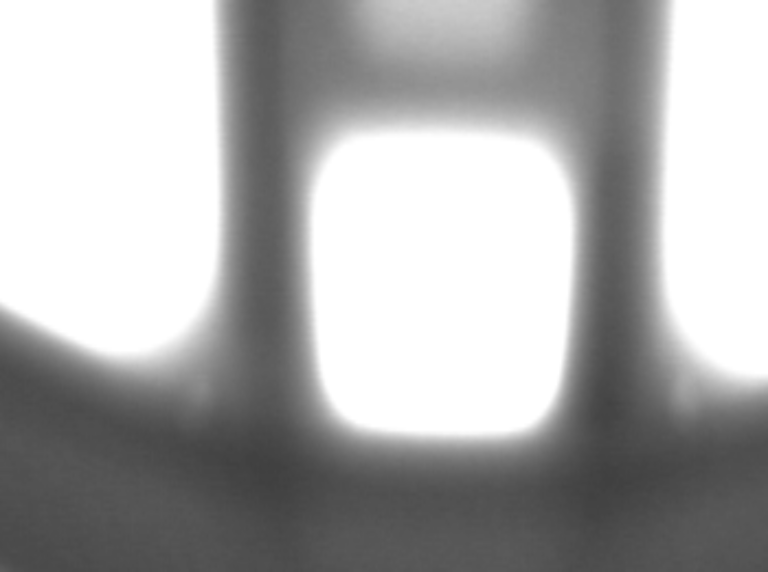defect: (193, 386, 222, 432)
